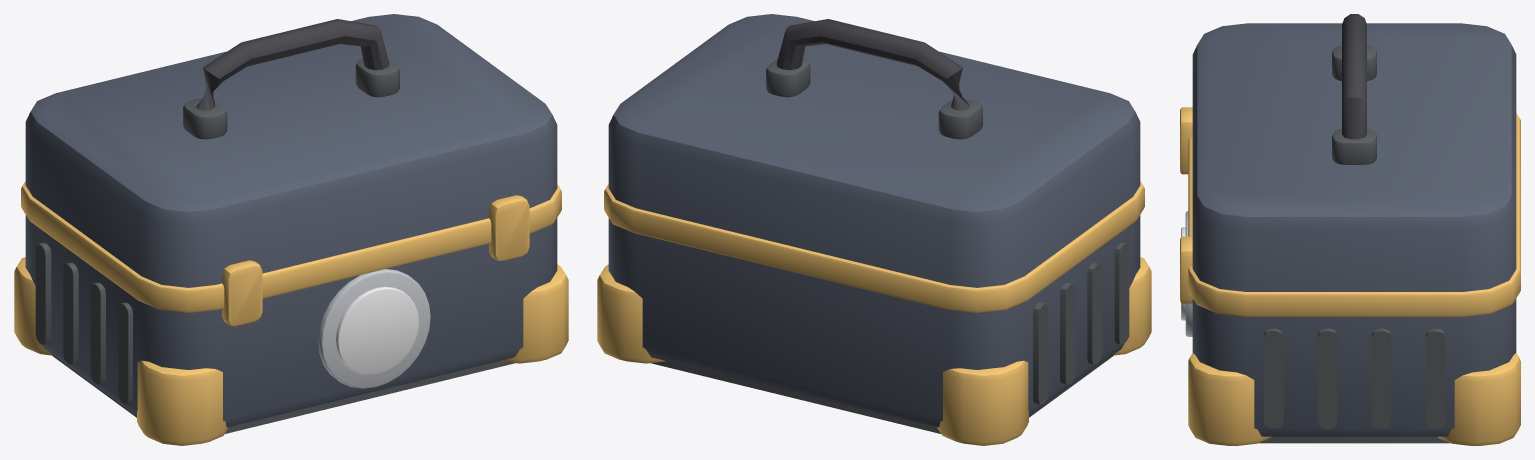
Rendered from SM_SupplyCase.fbx.
3 views of the same model, side by side, from view 1: azimuth 30°, elevation 25°; view 2: azimuth 150°, elevation 25°; view 3: azimuth 270°, elevation 25° (orthographic).
Visible parts, largest first — view 1: SupplyCase; view 2: SupplyCase; view 3: SupplyCase.
Boxes of the visible parts, x1=… form: SupplyCase: x1=14, y1=14, x2=568, y2=445; SupplyCase: x1=597, y1=14, x2=1151, y2=445; SupplyCase: x1=1180, y1=14, x2=1520, y2=445.
Bounding box in the file's own units: 0.535 × 0.3833 × 0.379.
